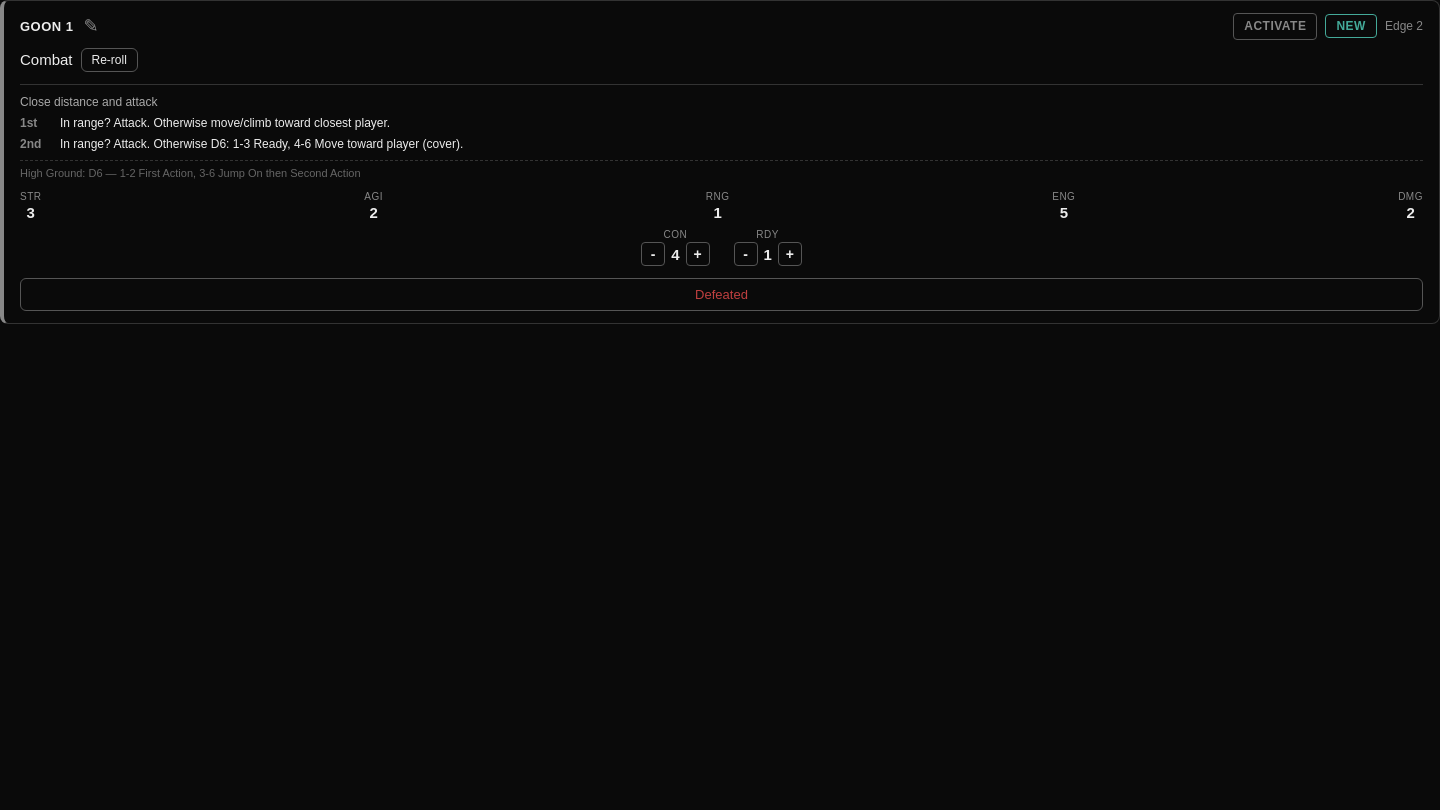
Scenario: EnemyCard › rename modal › closes rename modal when Cancel is clicked
Click the button named "Rename": [91, 26] box [80,15,103,37]
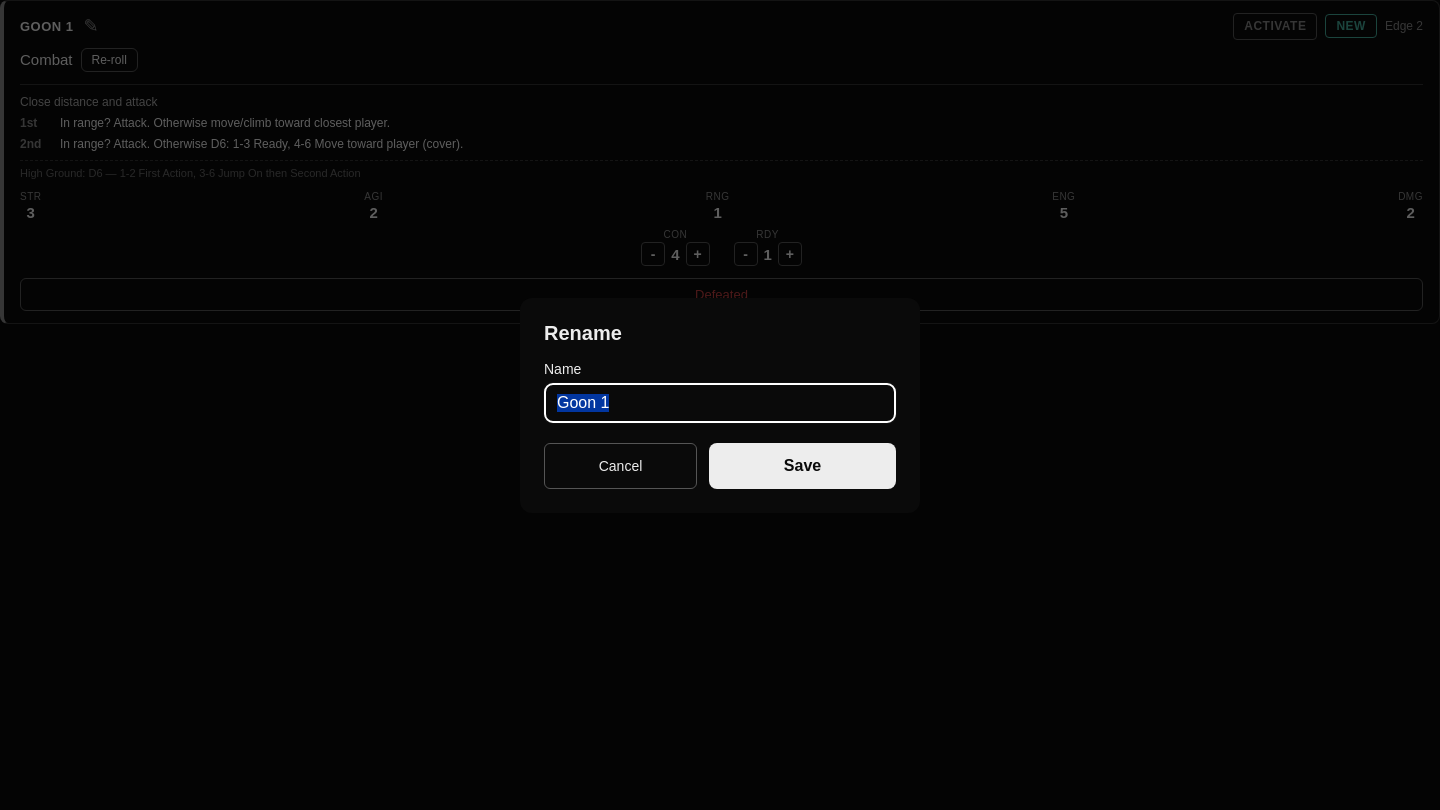
Result: the heading "Rename" is shown at [544,322,622,344]
Click the button "Cancel": [620, 466] box [544,442,697,488]
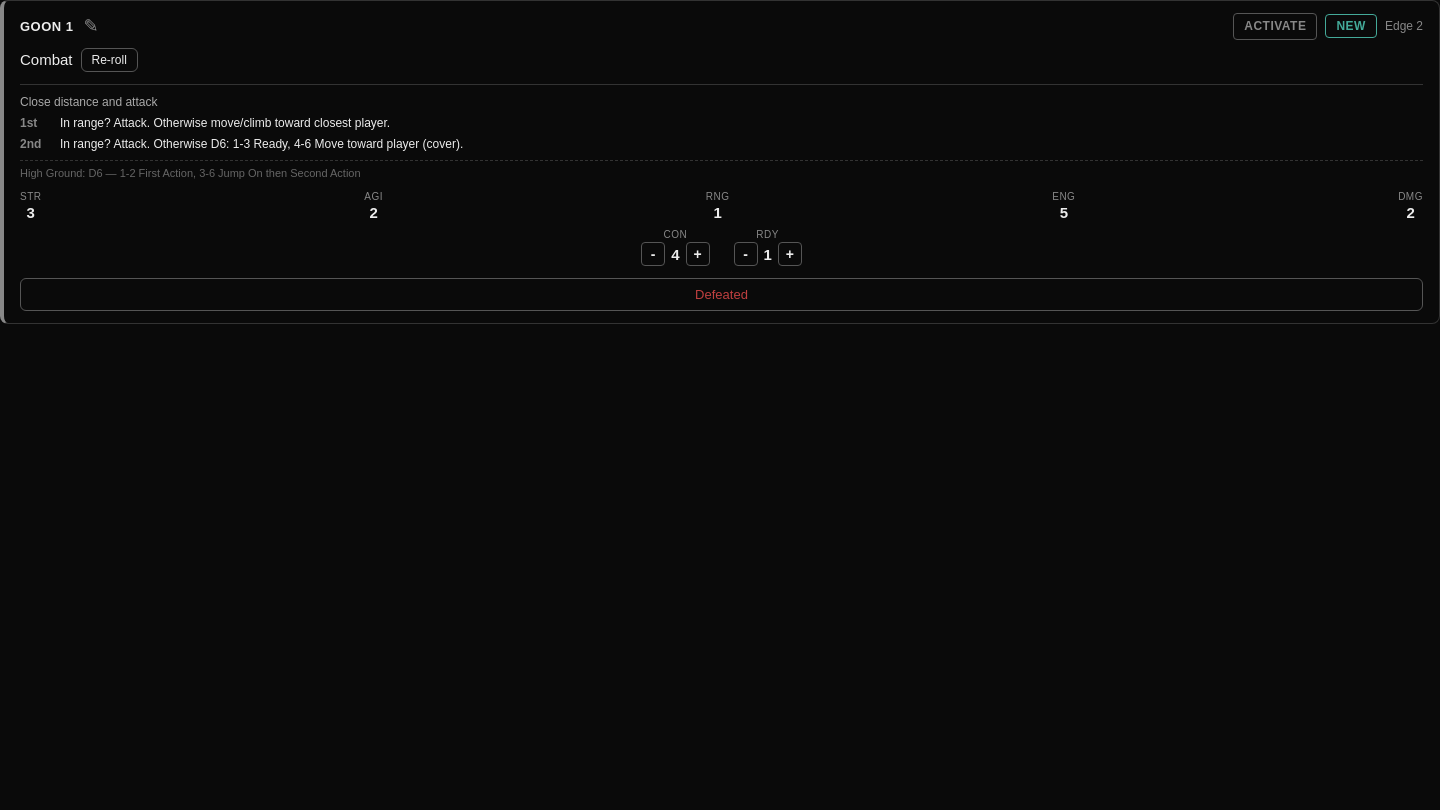
Result: the heading "Rename" is gone
